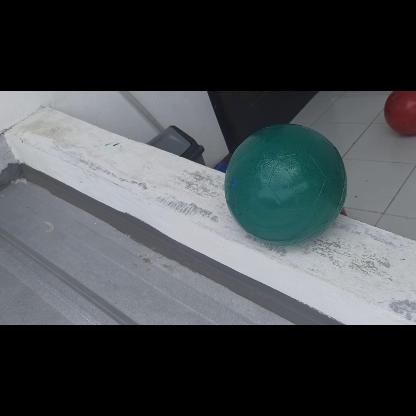green_ball: (227, 123, 347, 243)
